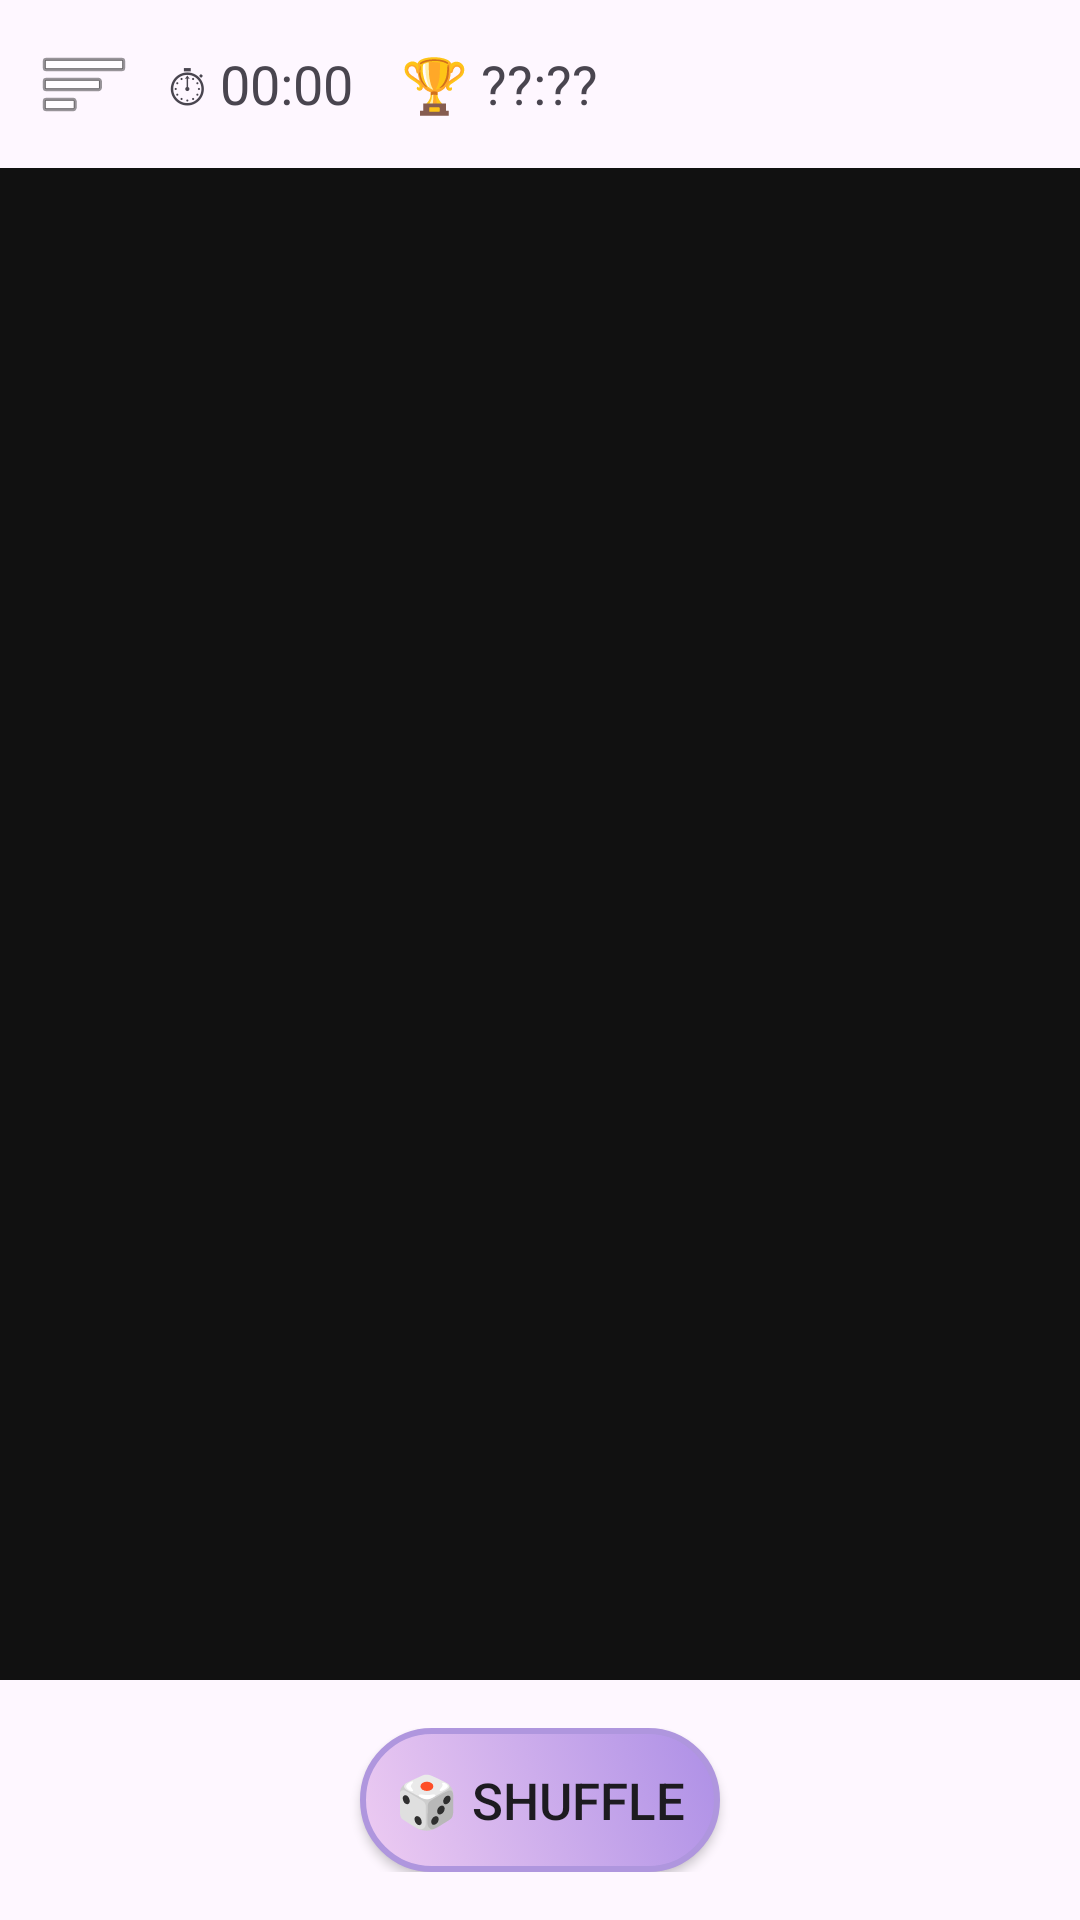

Icon click points for this 1080px×1920px phone screenshot, format point (x, y):
Menu: point (84, 84)
